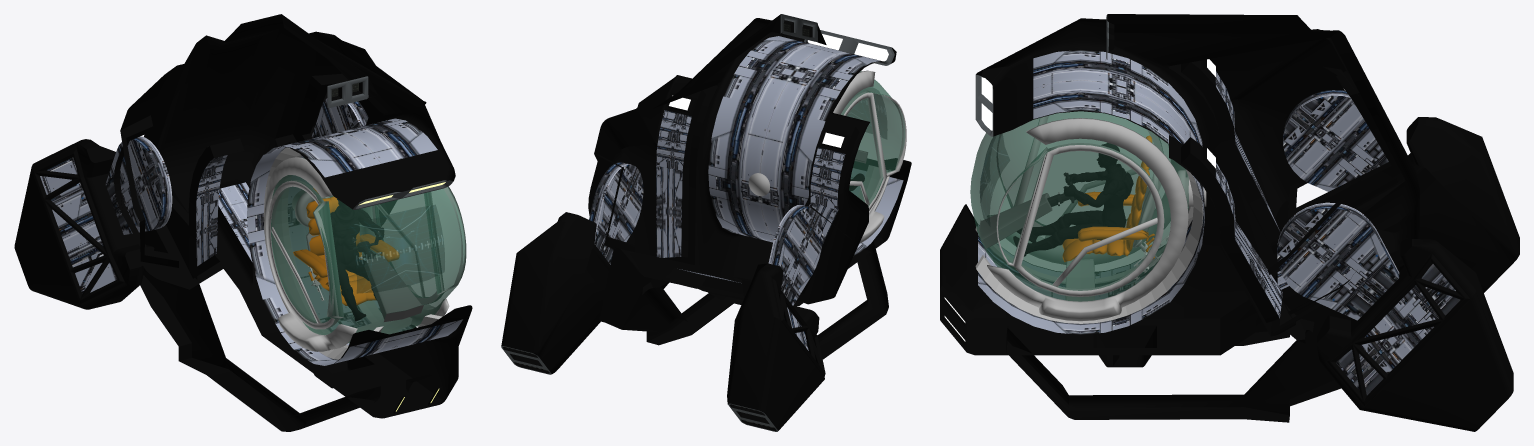
The picture shows the model from 3 angles, left to right: view 1: azimuth 30°, elevation 25°; view 2: azimuth 150°, elevation 25°; view 3: azimuth 270°, elevation 25°; orthographic projection. The views are drawn at different scales.
Visible parts, largest first — view 1: super motor hull_4, Cylinder_1, rotor 2_3, seat_cushions_0, rotor 1_2; view 2: super motor hull_4, rotor 1_2, rotor 2_3, Cylinder_1; view 3: super motor hull_4, Cylinder_1, rotor 1_2, rotor 2_3, seat_cushions_0.
Boxes of the visible parts, x1,y1,x2,y2 form: super motor hull_4: [114, 14, 472, 431]; Cylinder_1: [263, 147, 466, 359]; rotor 2_3: [14, 136, 172, 309]; seat_cushions_0: [293, 188, 399, 321]; rotor 1_2: [310, 92, 368, 138]; super motor hull_4: [588, 14, 911, 359]; rotor 1_2: [501, 162, 643, 374]; rotor 2_3: [727, 205, 825, 431]; Cylinder_1: [748, 62, 906, 243]; super motor hull_4: [940, 14, 1419, 422]; Cylinder_1: [970, 111, 1206, 323]; rotor 1_2: [1277, 202, 1513, 431]; rotor 2_3: [1283, 90, 1519, 292]; seat_cushions_0: [1013, 135, 1152, 261].
Size of the model in its own units: 4.27 by 4.4 by 6.58.
Materials: 16 (3 with a texture image).
